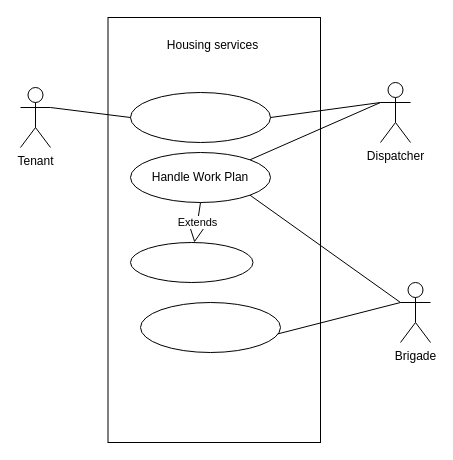
This 453x460 diagram has some shape labels left out. The shapes that lost their labels are listed below. From the top down, each one's centre as x and y in pixels, then its label:
point (200, 117): Create request
point (191, 262): Update Work Plan
point (210, 327): Do appropriate work
